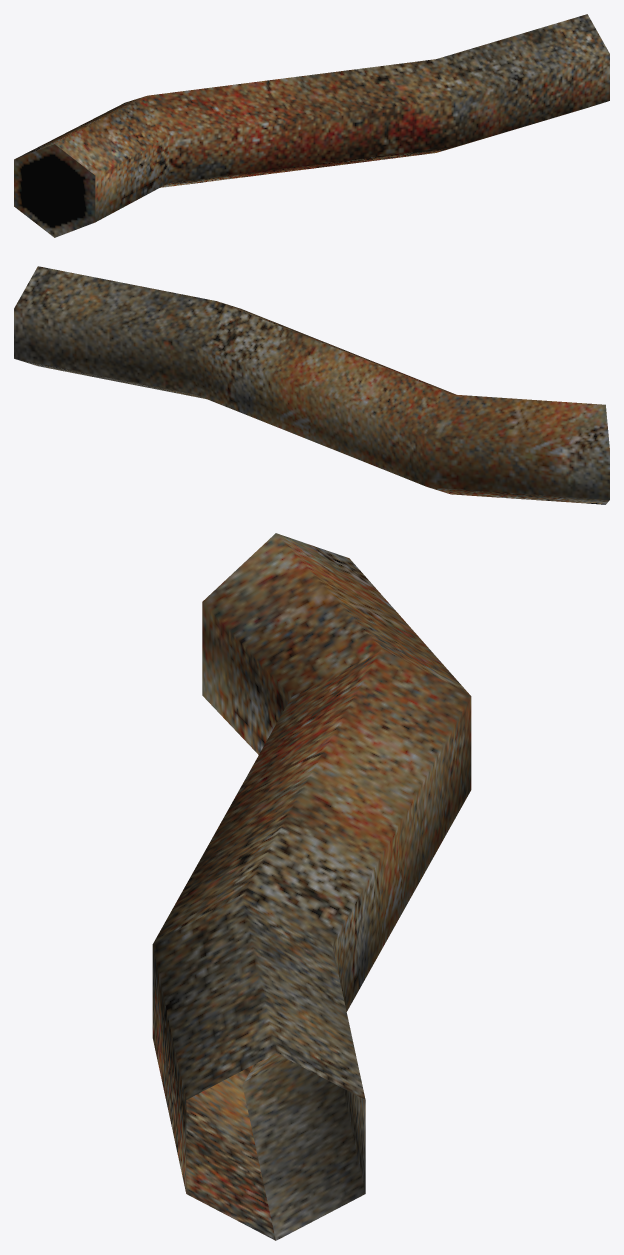
The model's file is props2_1.fbx.
The picture shows the model from 3 angles, top to bottom: view 1: azimuth 30°, elevation 25°; view 2: azimuth 150°, elevation 25°; view 3: azimuth 270°, elevation 25°; orthographic projection. The views are drawn at different scales.
Parts seen in each view (by area): view 1: Dino_props_2_low_001; view 2: Dino_props_2_low_001; view 3: Dino_props_2_low_001.
Boxes of the visible parts, box(x1,y1,x2,y2) form: Dino_props_2_low_001: box(14, 14, 609, 237); Dino_props_2_low_001: box(14, 266, 609, 504); Dino_props_2_low_001: box(152, 533, 471, 1240).
Bounding box in the file's own units: 2.96 × 0.4777 × 0.7345.
